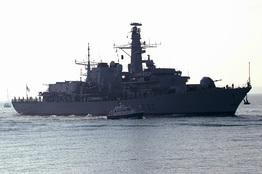otherboat: (105, 97, 148, 122)
warship: (9, 21, 253, 113)
